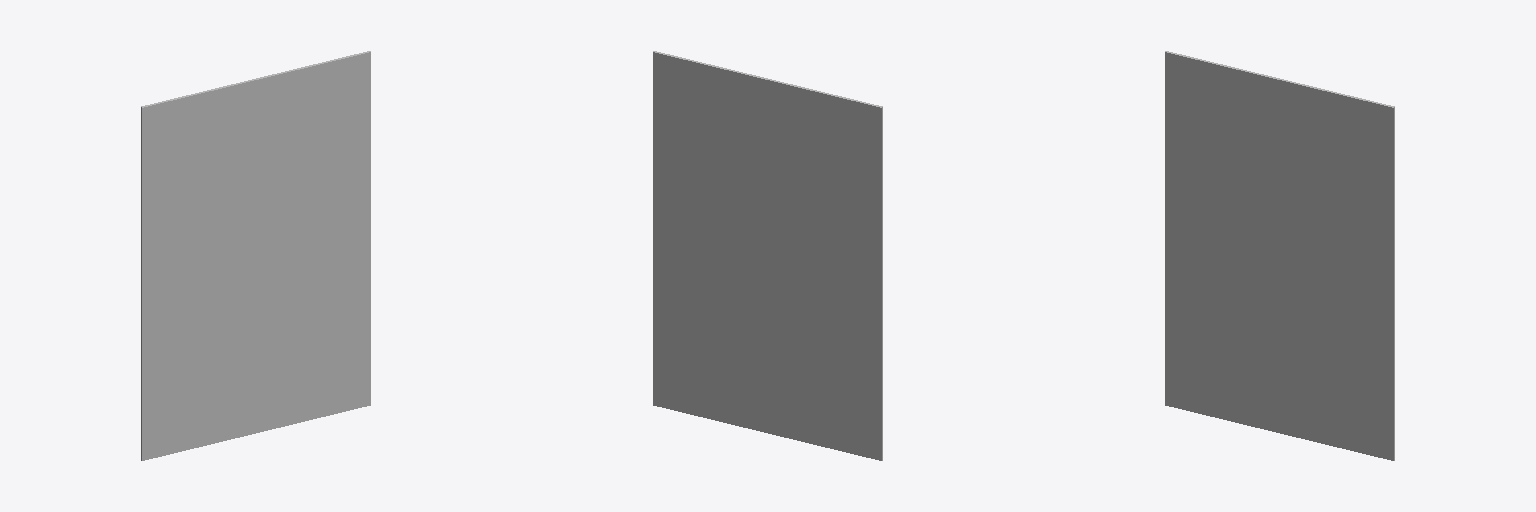
Rendered from RealExitPo.obj.
3 renders of one model, left to right at view 1: azimuth 30°, elevation 25°; view 2: azimuth 150°, elevation 25°; view 3: azimuth 330°, elevation 25°, orthographic.
Visible parts, largest first — view 1: 표지판; view 2: 표지판; view 3: 표지판.
Part boxes in pixels (bbox=[...]): 표지판: bbox=[141, 51, 370, 460]; 표지판: bbox=[653, 51, 882, 460]; 표지판: bbox=[1165, 51, 1394, 460].
Size of the model in its own units: 8 by 11.8 by 0.1.